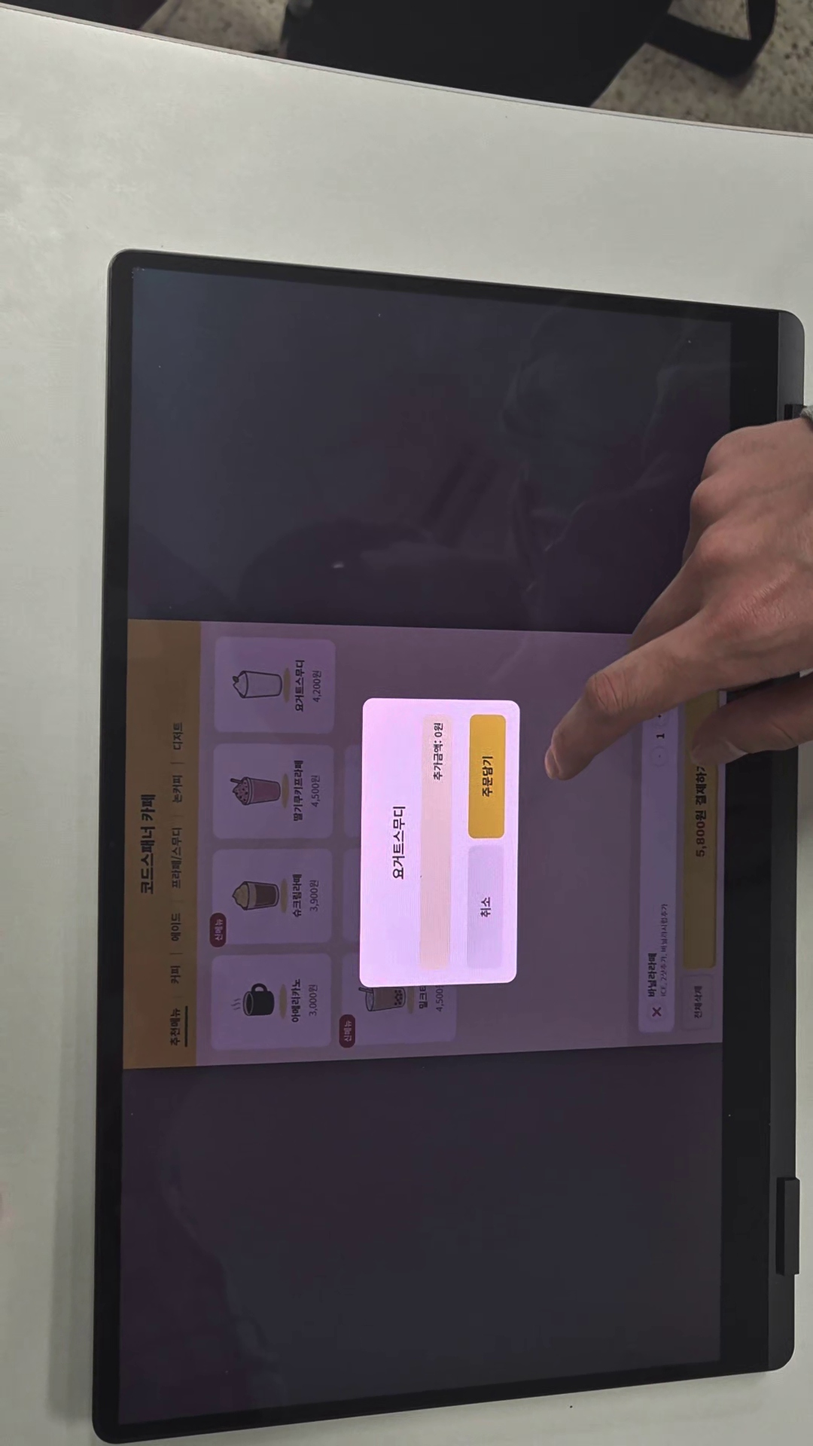action_button: (469, 715, 505, 838), (468, 846, 504, 969)
popup_modal: (361, 698, 517, 987)
